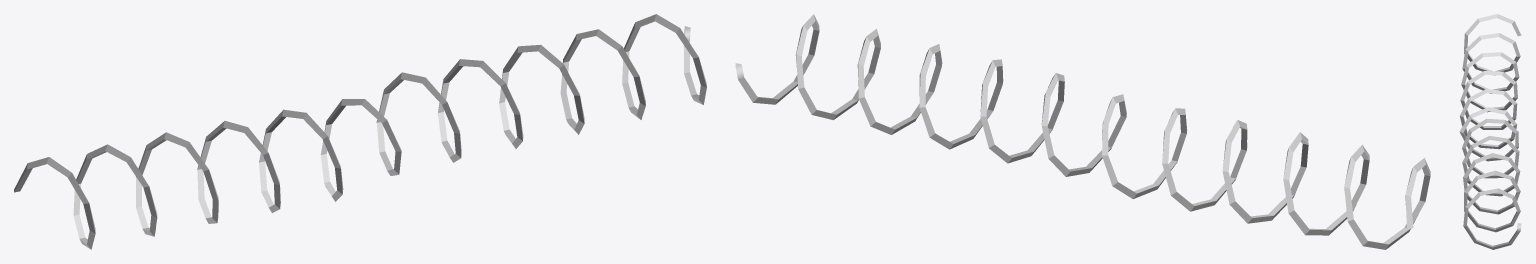
Rendered from Wire_Loop_horizontal_White.fbx.
The picture shows the model from 3 angles, left to right: view 1: azimuth 30°, elevation 25°; view 2: azimuth 150°, elevation 25°; view 3: azimuth 270°, elevation 25°; orthographic projection. The views are drawn at different scales.
Visible parts, largest first — view 1: Wire_loop_Horizontal_White; view 2: Wire_loop_Horizontal_White; view 3: Wire_loop_Horizontal_White.
Part boxes in pixels (x1,y1,x2,y2): Wire_loop_Horizontal_White: (14,14,706,249); Wire_loop_Horizontal_White: (735,14,1430,249); Wire_loop_Horizontal_White: (1459,14,1521,249).
Bounding box in the file's own units: 8.01 × 1.13 × 1.11.
Materials: 1 (1 with a texture image).
